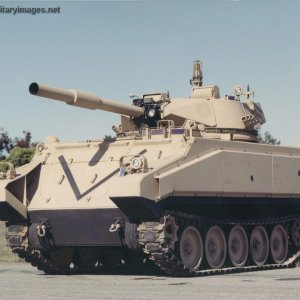Battle Tank: (1, 73, 300, 281)
